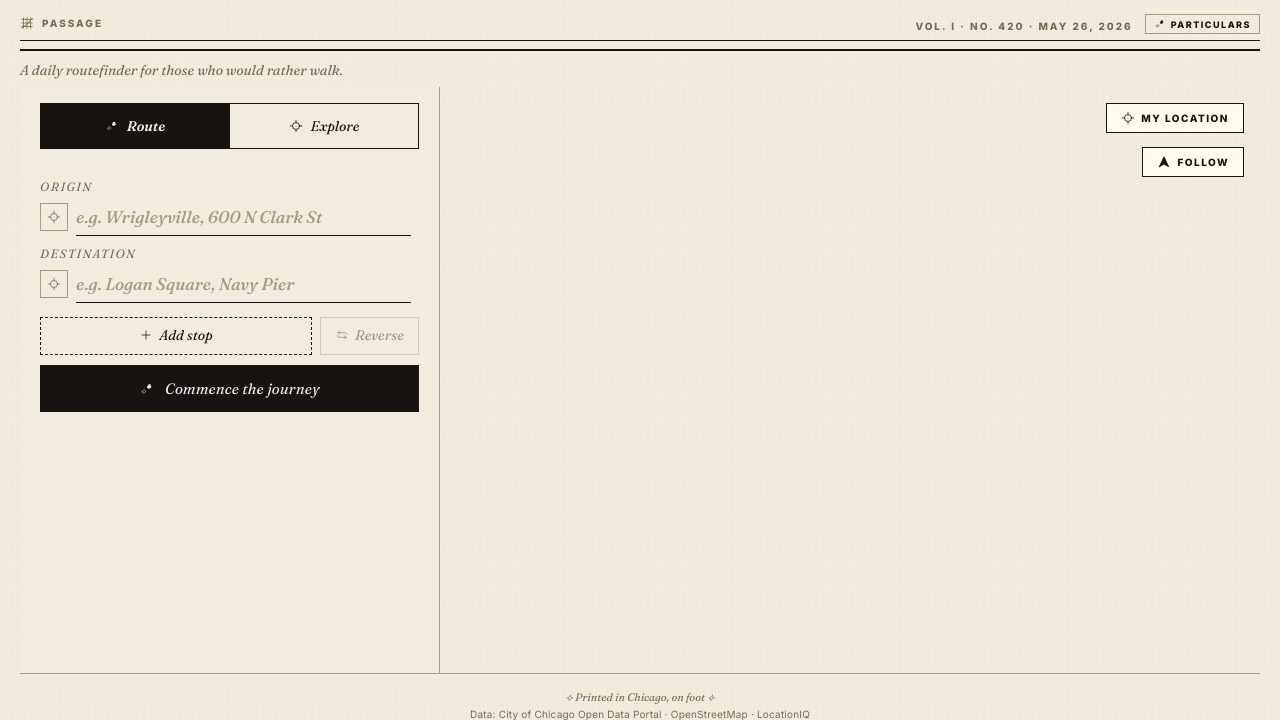
it: handleSubmit error handling › shows a server error message when the API returns a non-ok response
Step 1. Type "Nowhere" into the dropdown named "Origin" → coordinates (244, 217), box [76,198,411,236]
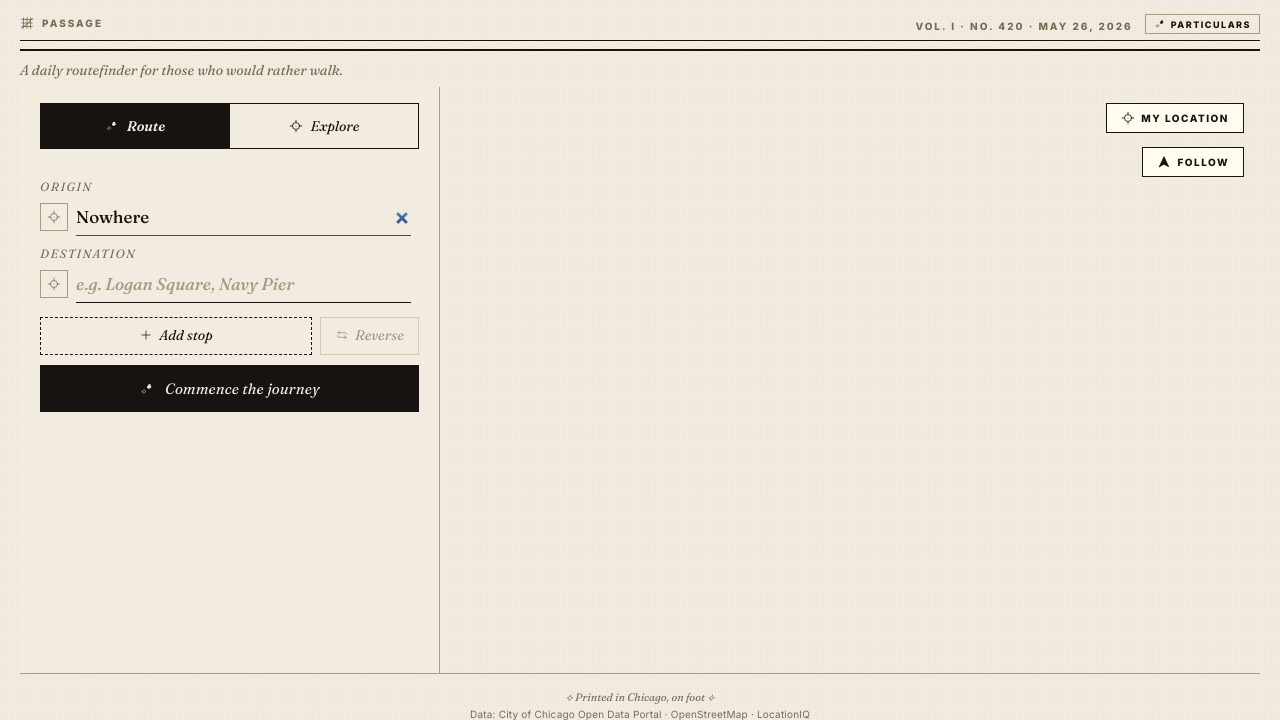
Step 2. Type "Somewhere" into the dropdown named "Destination" → coordinates (244, 284), box [76,265,411,303]
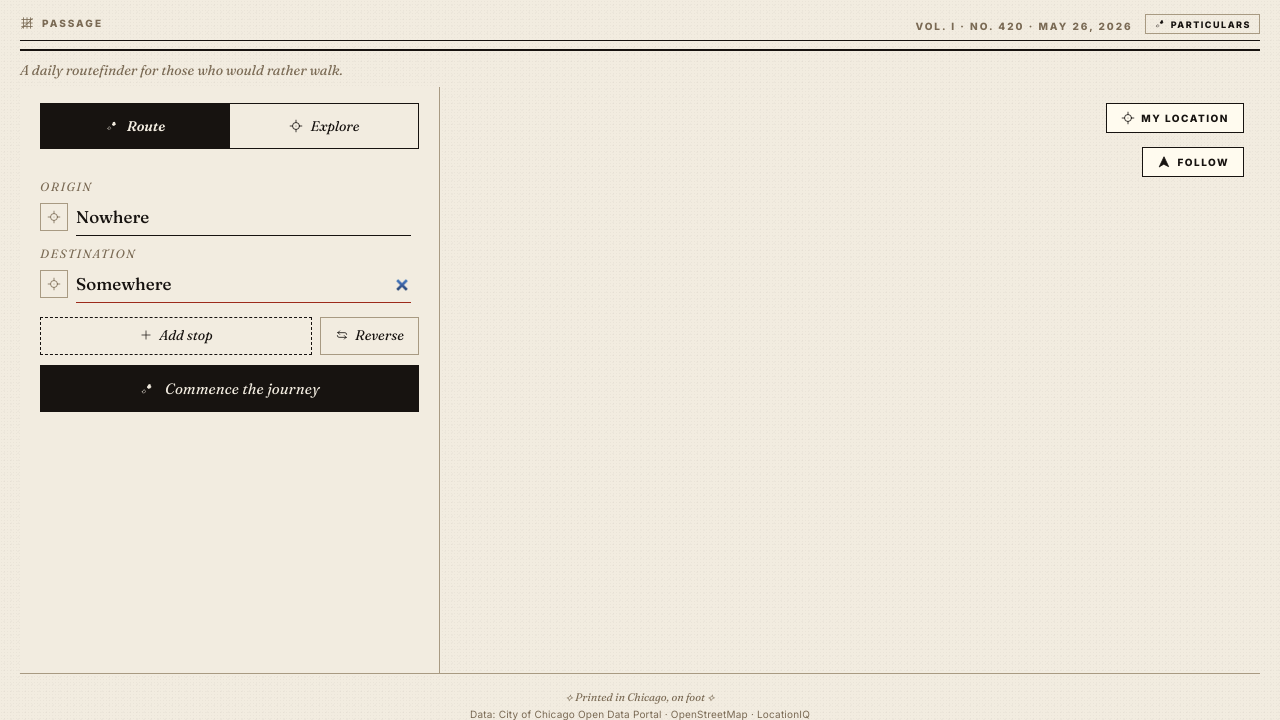
Step 3. Click the button "Commence the journey" → coordinates (230, 388), box [40,365,419,412]
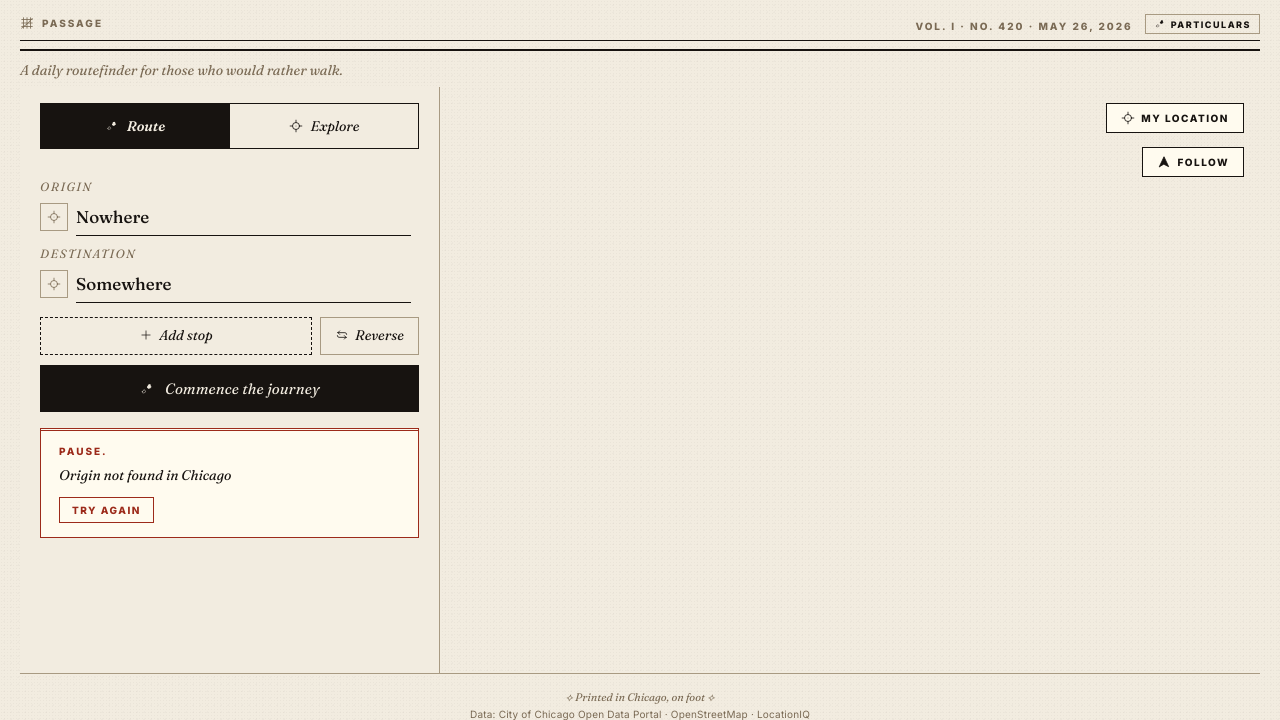
Result: the message shows "Origin not found in Chicago" at [59,466,231,484]
